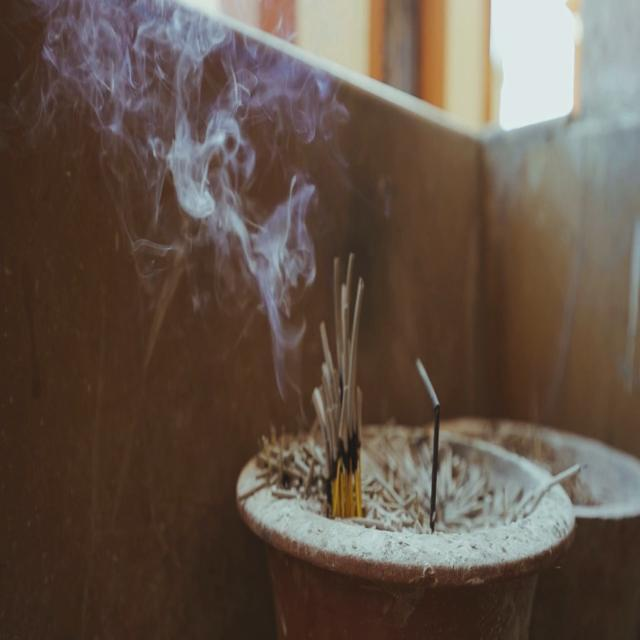fire: (21, 0, 359, 412)
